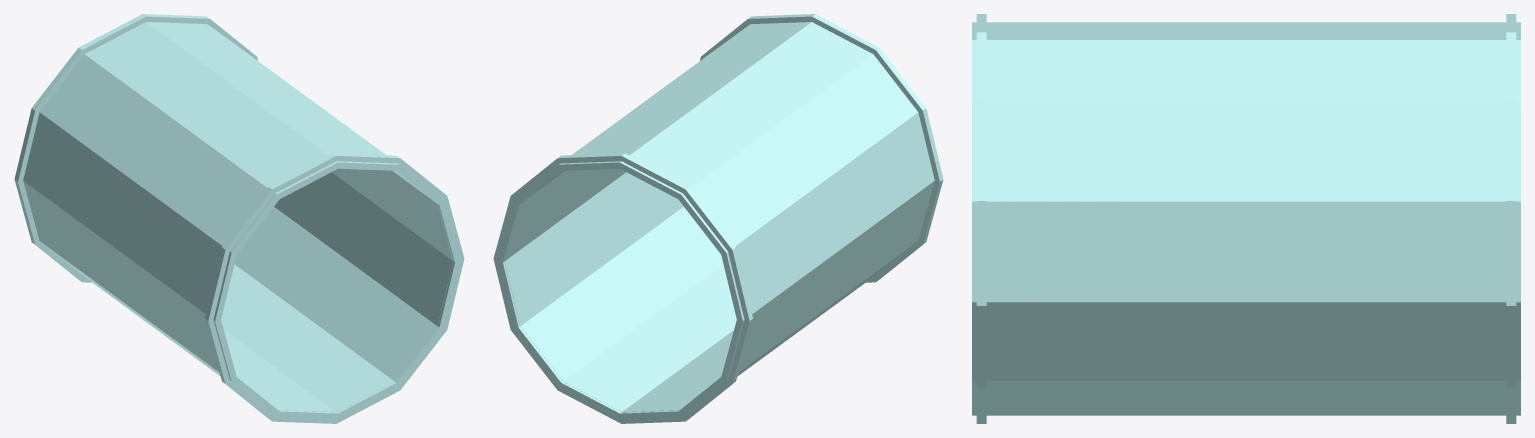
File: tube_straight.glb
The picture shows the model from 3 angles, left to right: view 1: azimuth 30°, elevation 25°; view 2: azimuth 150°, elevation 25°; view 3: azimuth 270°, elevation 25°; orthographic projection. The views are drawn at different scales.
Visible parts, largest first — view 1: Round_Glass_Shell, Start_Collar, End_Collar; view 2: Round_Glass_Shell, End_Collar, Start_Collar; view 3: Round_Glass_Shell, End_Collar, Start_Collar.
Boxes of the visible parts, x1,y1,x2,y2 form: Round_Glass_Shell: [23, 22, 460, 419]; Start_Collar: [205, 153, 464, 423]; End_Collar: [14, 14, 257, 282]; Round_Glass_Shell: [497, 22, 934, 419]; End_Collar: [493, 153, 752, 423]; Start_Collar: [700, 14, 943, 282]; Round_Glass_Shell: [972, 22, 1520, 415]; End_Collar: [1506, 14, 1516, 423]; Start_Collar: [976, 14, 986, 423].
Size of the model in its own units: 1.5 by 1.5 by 2.
Materials: 2 (2 with a texture image).
